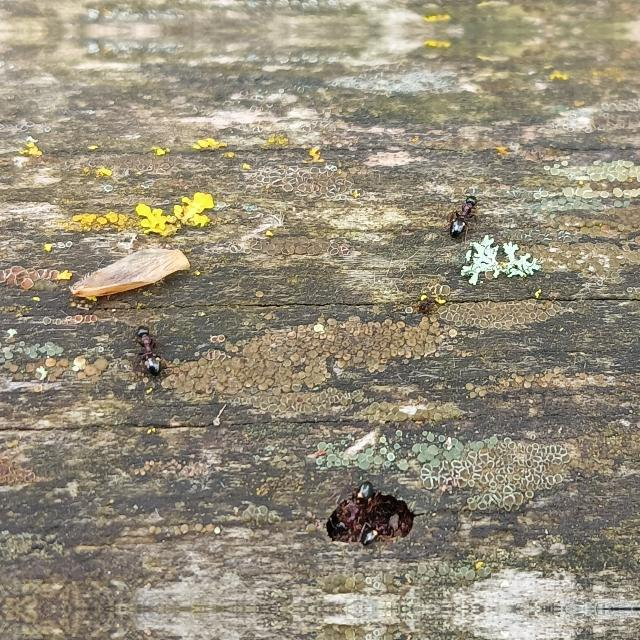Dolichoderus: (315, 463, 385, 543), (122, 314, 176, 384), (435, 184, 485, 242), (356, 518, 400, 546)
